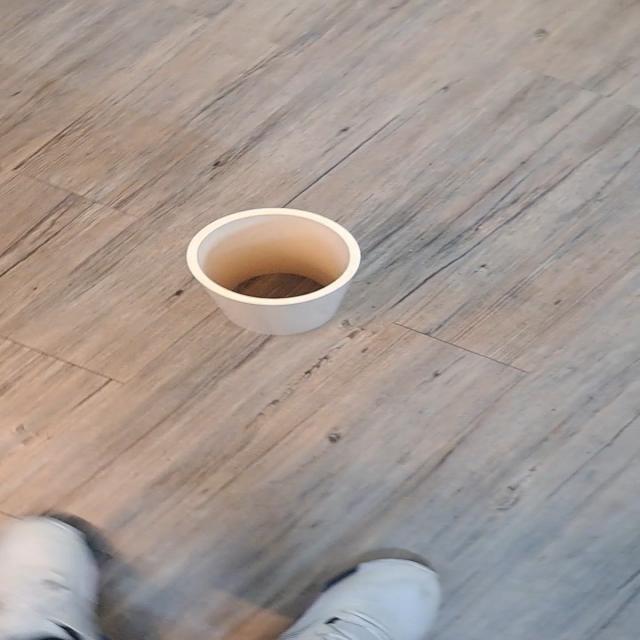CORAL: (148, 177, 412, 354)
